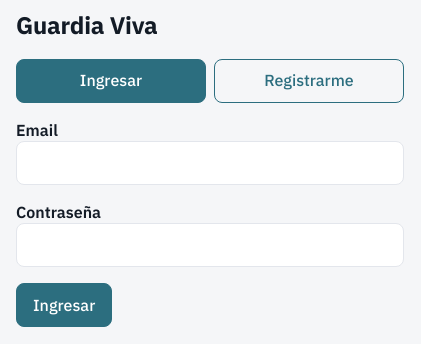
Test case: Acceso › doble clic no envía dos veces: el botón se deshabilita mientras espera
This screenshot has width=421, height=344.
Type "ana@x.com" into the field labelled "Email" at [210, 163], box [16,141,404,185]
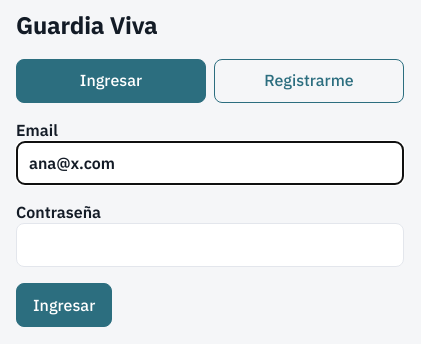
Type "secreto1" into the password field labelled "Contraseña" at [210, 245], box [16,223,404,267]
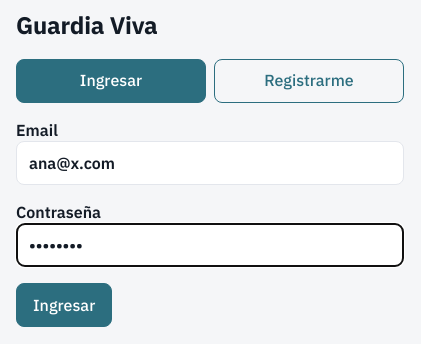
Click the button "Ingresar" at [64, 305], box [16,283,112,327]
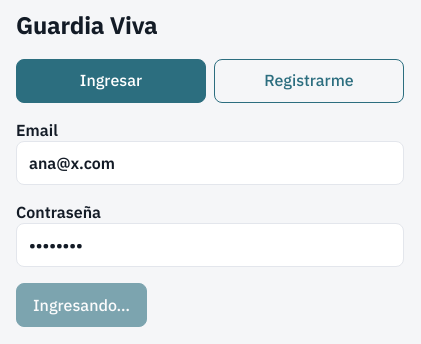
Check: the button "Ingresando…" is disabled
Click the button "Ingresando…" at [82, 305], box [16,283,147,327]
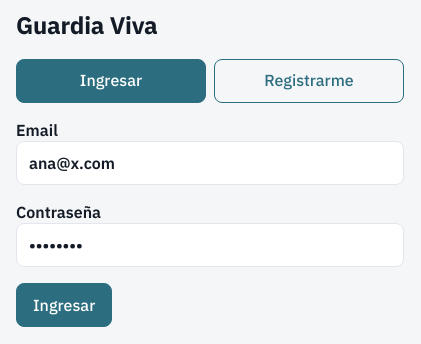
Check: the button "Ingresar" is enabled, box [16,283,112,327]
